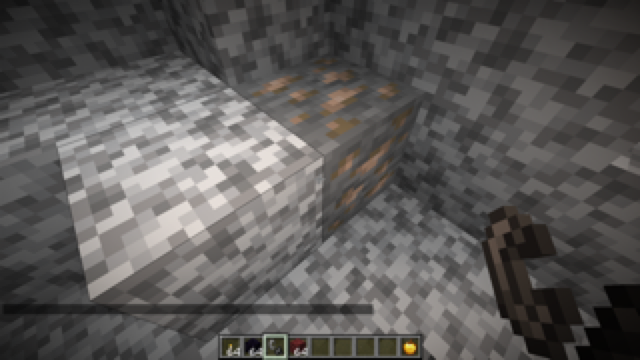iron: (231, 52, 420, 245)
